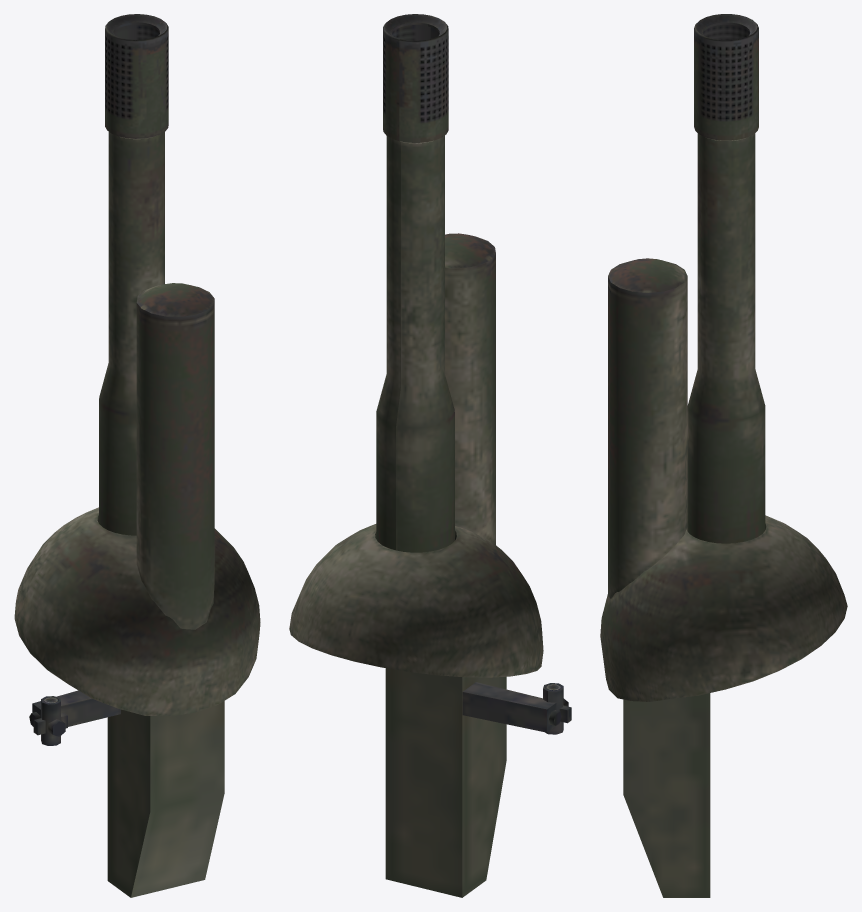
The model's file is Gun_05.glb.
3 views of the same model, side by side, from view 1: azimuth 30°, elevation 25°; view 2: azimuth 150°, elevation 25°; view 3: azimuth 270°, elevation 25° (orthographic). The views are drawn at different scales.
Parts seen in each view (by area): view 1: set_0_group_0; view 2: set_0_group_0; view 3: set_0_group_0.
Part boxes in pixels (x1,y1,x2,y2): set_0_group_0: (14, 14, 260, 897); set_0_group_0: (289, 14, 571, 897); set_0_group_0: (600, 14, 847, 897).
Bounding box in the file's own units: 0.668 × 2.3 × 0.6041.
1 material, 1 textured.
